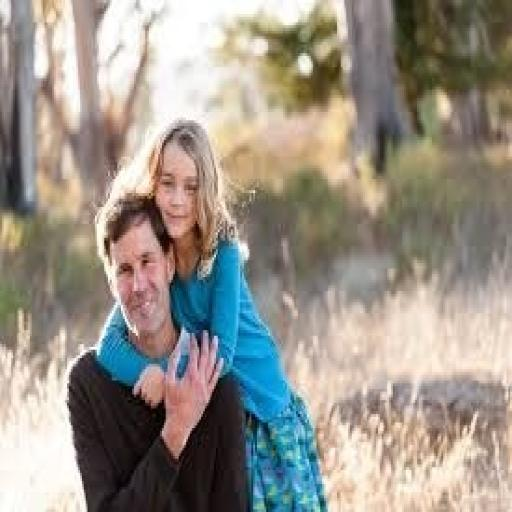hugging: (65, 115, 330, 509)
